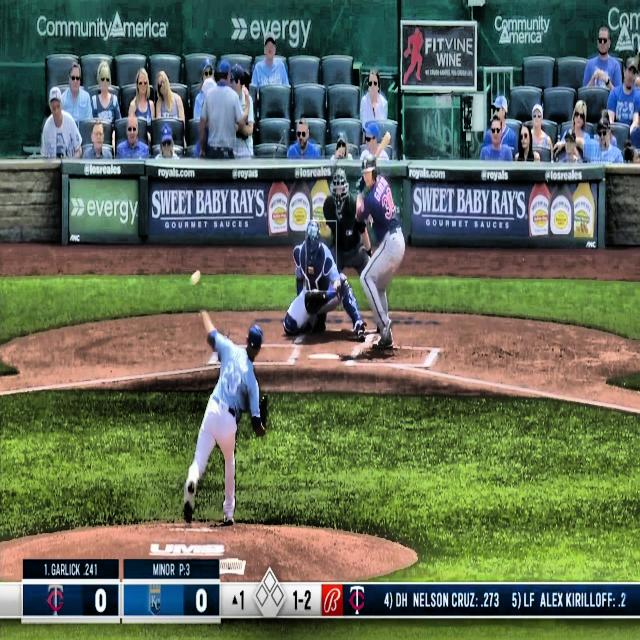baseball: (190, 270, 202, 286)
